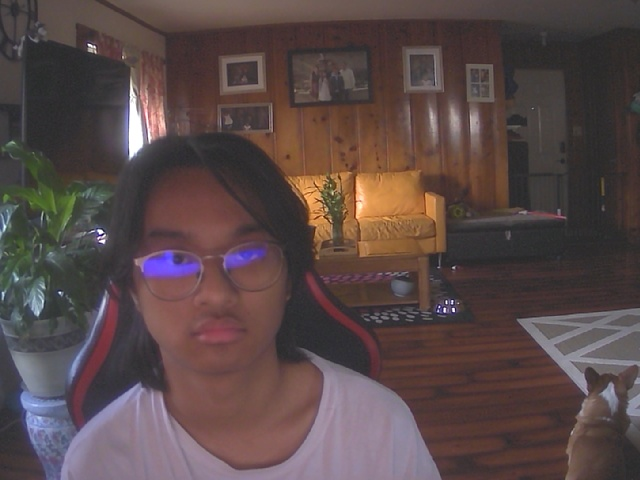neutral: (125, 139, 300, 378)
